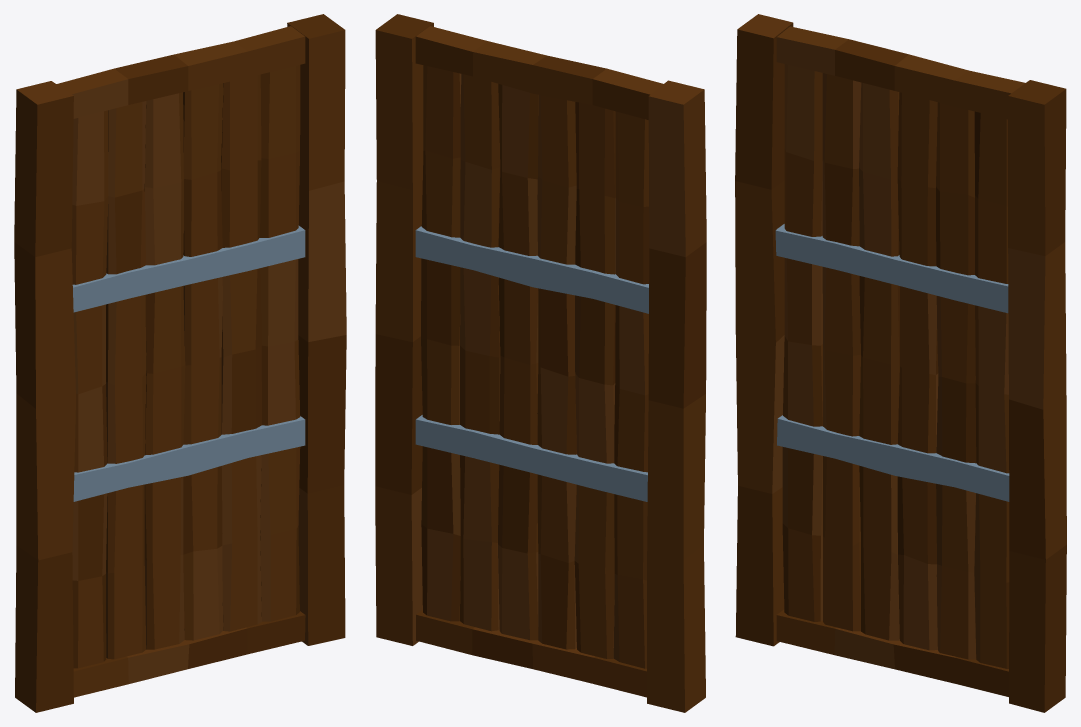
File: gate door.fbx
3 views of the same model, side by side, from view 1: azimuth 30°, elevation 25°; view 2: azimuth 150°, elevation 25°; view 3: azimuth 330°, elevation 25° (orthographic).
Parts seen in each view (by area): view 1: Cube.547; view 2: Cube.547; view 3: Cube.547.
Part boxes in pixels (<box>): Cube.547: <box>14,14,346,712</box>; Cube.547: <box>375,14,706,712</box>; Cube.547: <box>735,14,1066,712</box>.
Bounding box in the file's own units: 411 × 54.17 × 772.
